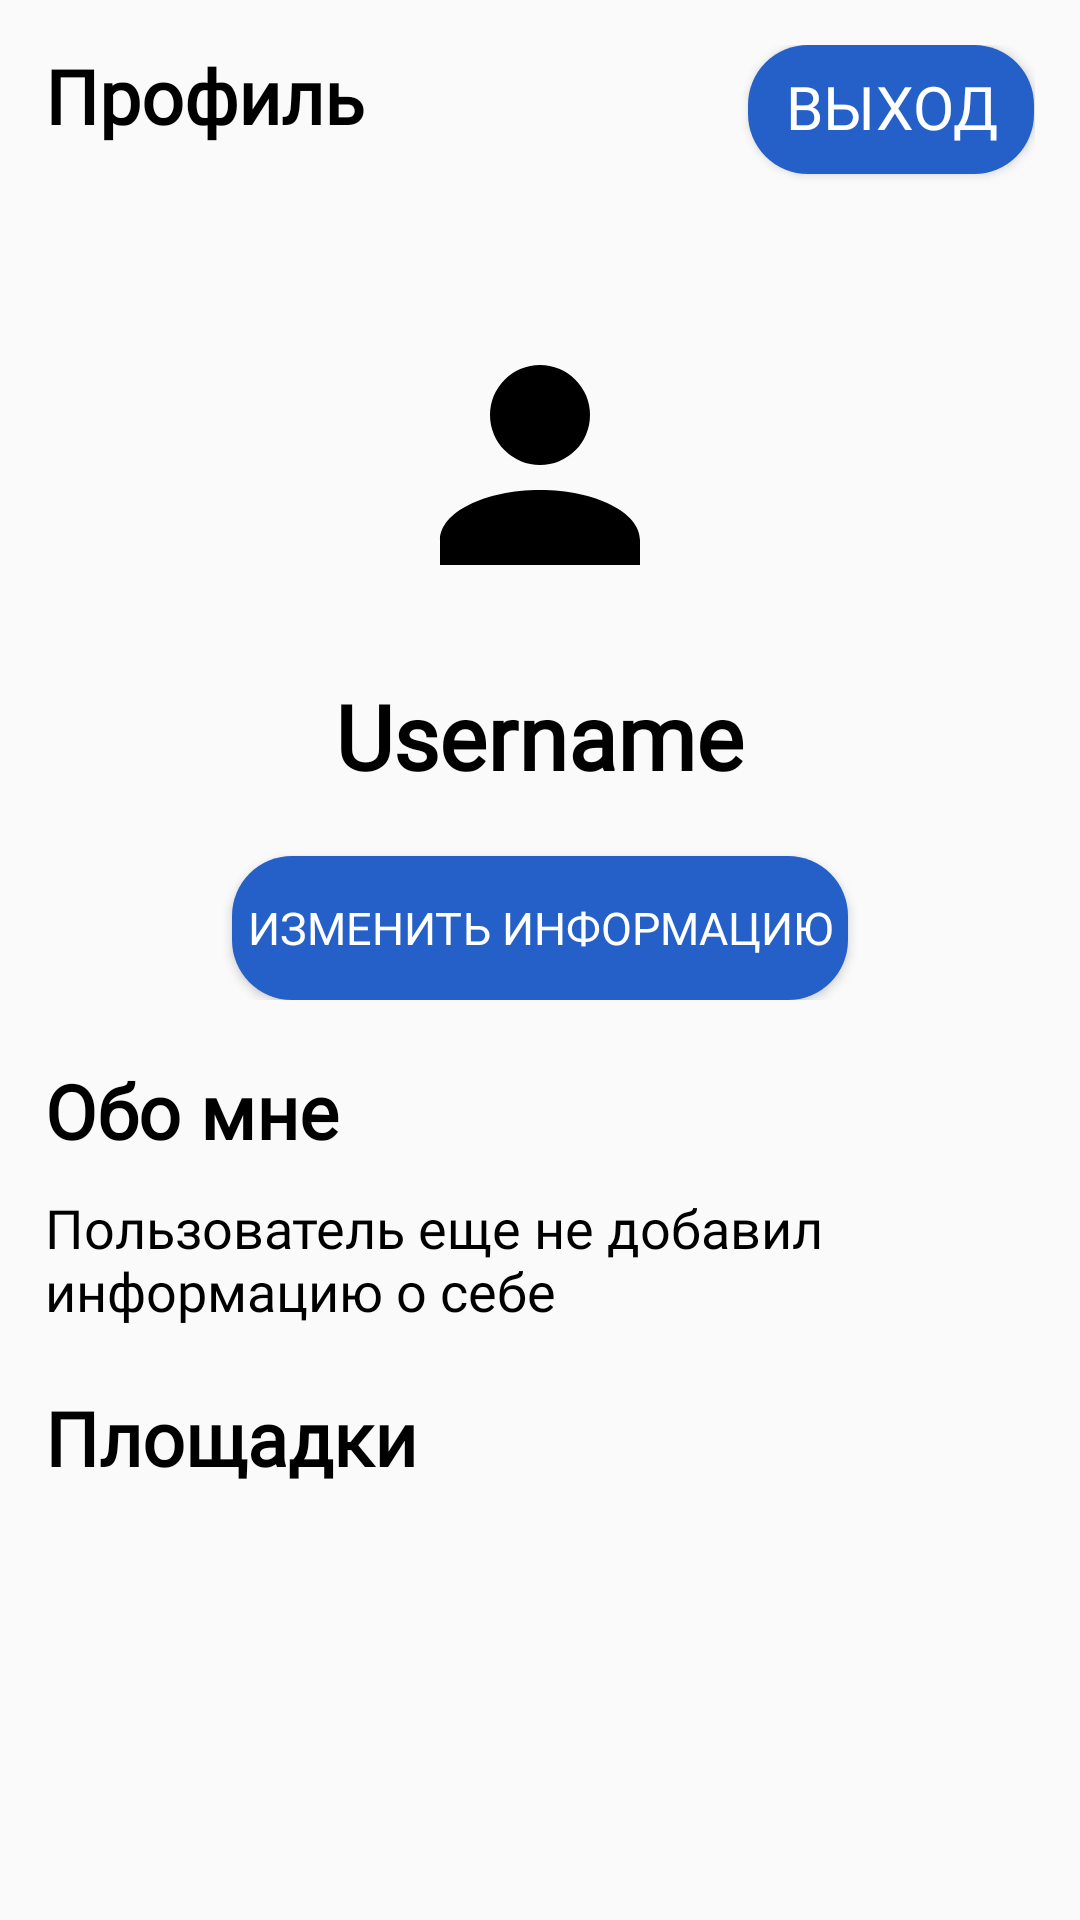

Where icons sit on this 1080x1920 app screen, as bbox(x1, y1, x2, y2):
profile: bbox(440, 365, 640, 565)
